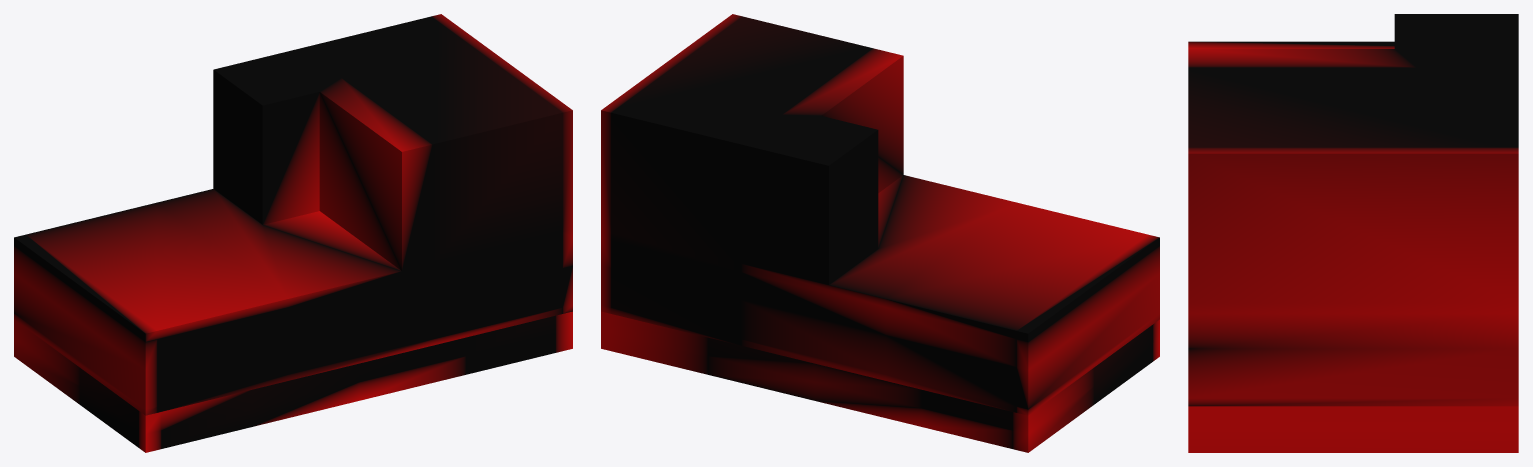
Rendered from House11_collisionSetup.fbx.
The picture shows the model from 3 angles, left to right: view 1: azimuth 30°, elevation 25°; view 2: azimuth 150°, elevation 25°; view 3: azimuth 270°, elevation 25°; orthographic projection. The views are drawn at different scales.
Parts seen in each view (by area): view 1: collisionCube, collisionCube.014, collisionCube.017; view 2: collisionCube, collisionCube.014, collisionCube.017; view 3: collisionCube.014, collisionCube, collisionCube.017.
Boxes of the visible parts, x1,y1,x2,y2 form: collisionCube: [14, 189, 572, 452]; collisionCube.014: [301, 14, 572, 270]; collisionCube.017: [213, 48, 341, 224]; collisionCube: [601, 175, 1159, 452]; collisionCube.014: [601, 14, 903, 263]; collisionCube.017: [741, 115, 878, 284]; collisionCube.014: [1188, 49, 1518, 303]; collisionCube: [1188, 41, 1518, 452]; collisionCube.017: [1394, 14, 1518, 67].
Bounding box in the file's own units: 1500 × 800 × 800.
